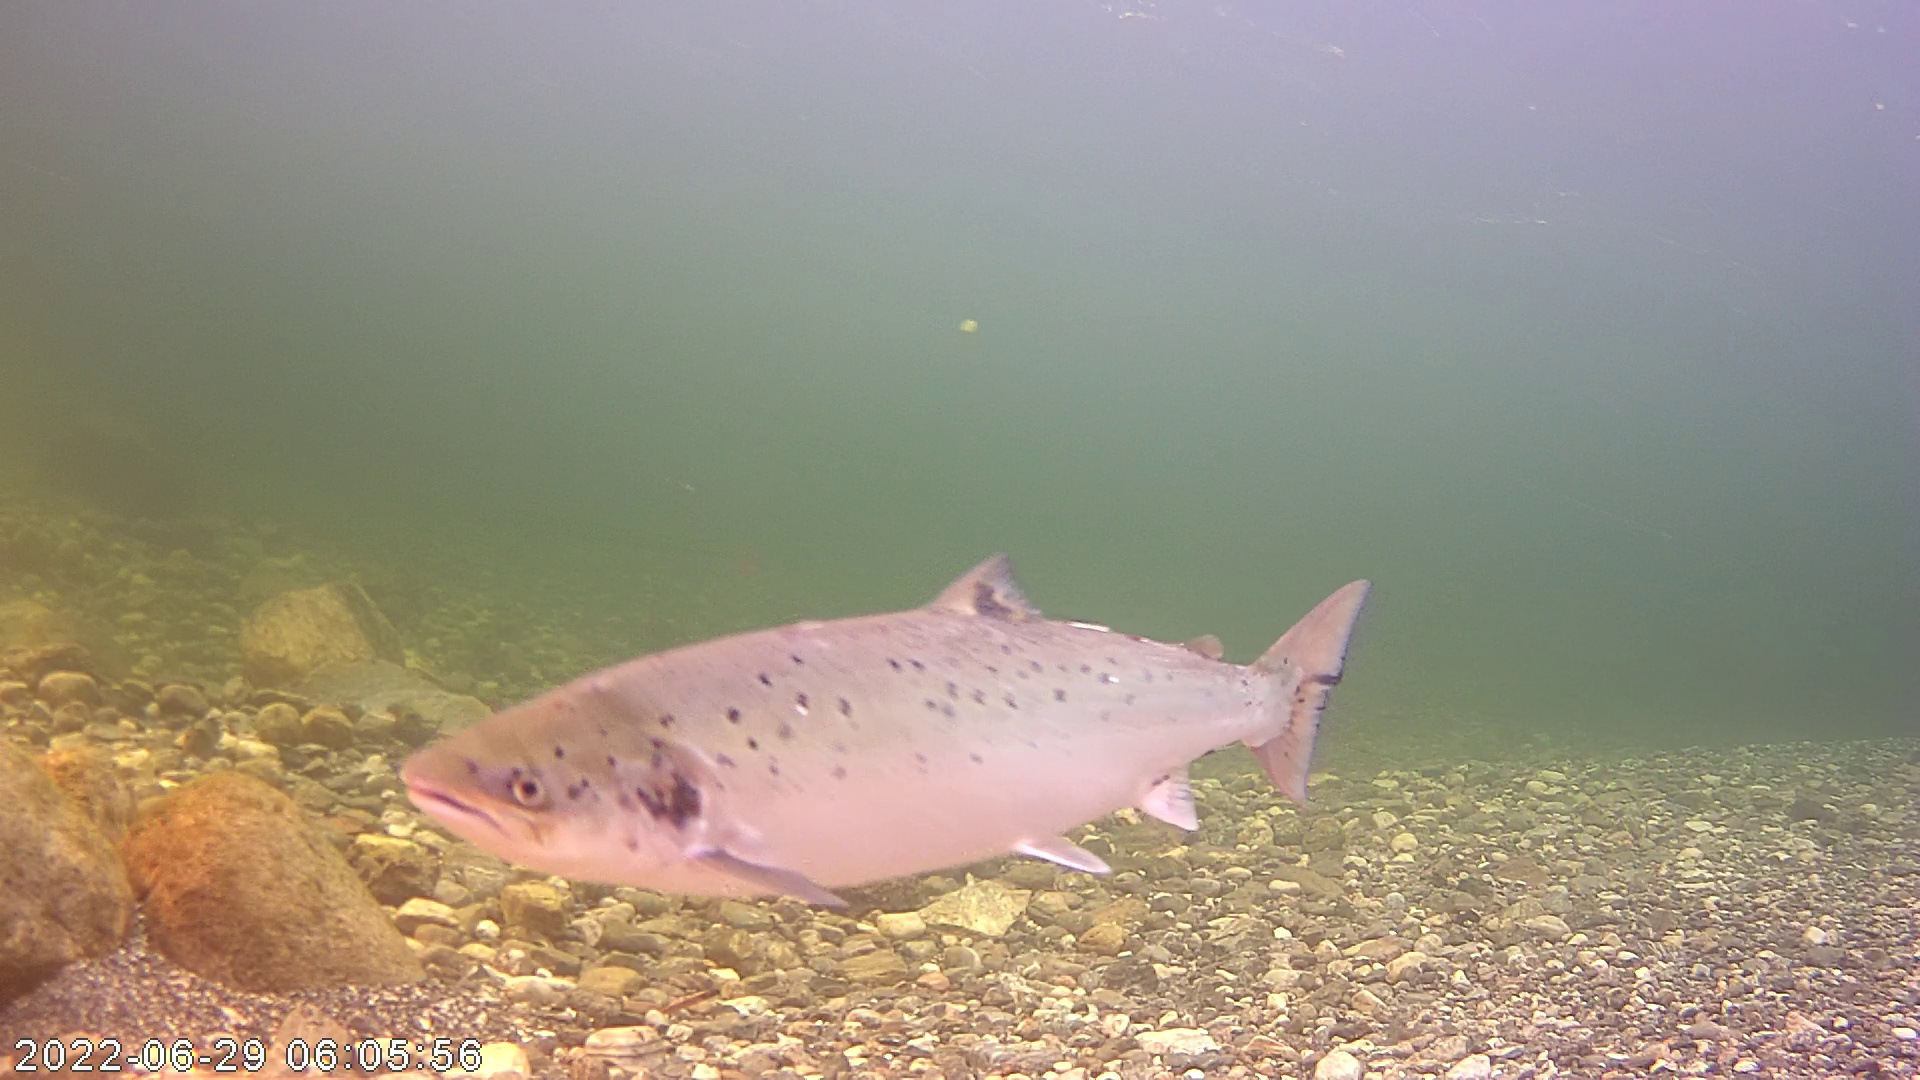salmon: (411, 479, 1395, 920)
